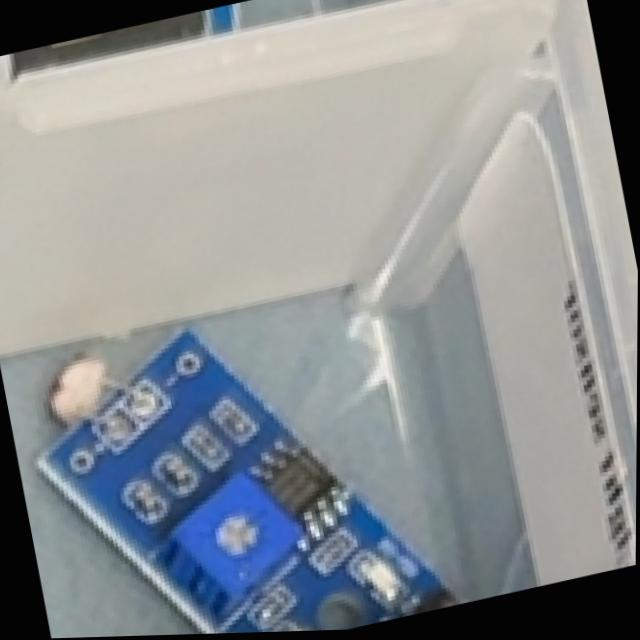Light Sensor: (16, 269, 470, 639)
